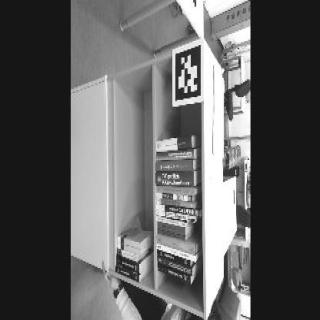book-spine: (154, 234, 197, 255), (154, 263, 193, 285), (154, 243, 197, 262), (154, 256, 194, 276), (155, 249, 191, 267), (154, 136, 192, 153), (154, 172, 194, 187), (113, 236, 143, 256), (155, 204, 200, 217), (112, 255, 142, 273), (155, 160, 193, 173), (155, 210, 195, 222), (155, 149, 194, 161), (155, 221, 186, 236), (113, 266, 141, 282), (155, 198, 195, 209), (155, 186, 195, 196), (156, 229, 186, 241), (155, 217, 186, 228), (156, 193, 192, 202), (115, 251, 137, 262), (115, 248, 138, 258)
